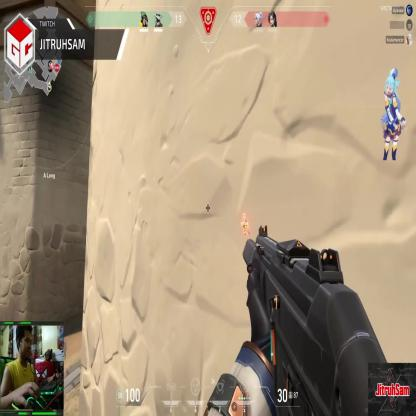enemy: (240, 210, 248, 235)
enemy_head: (242, 213, 246, 219)
